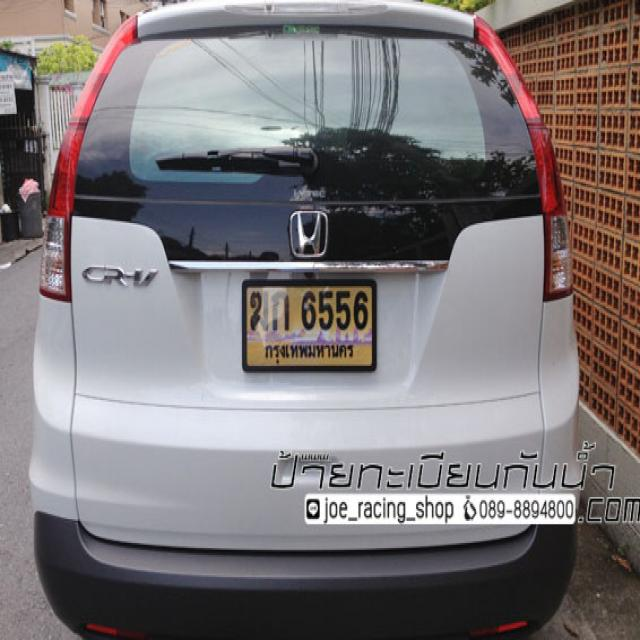license_plate: (241, 277, 378, 374)
